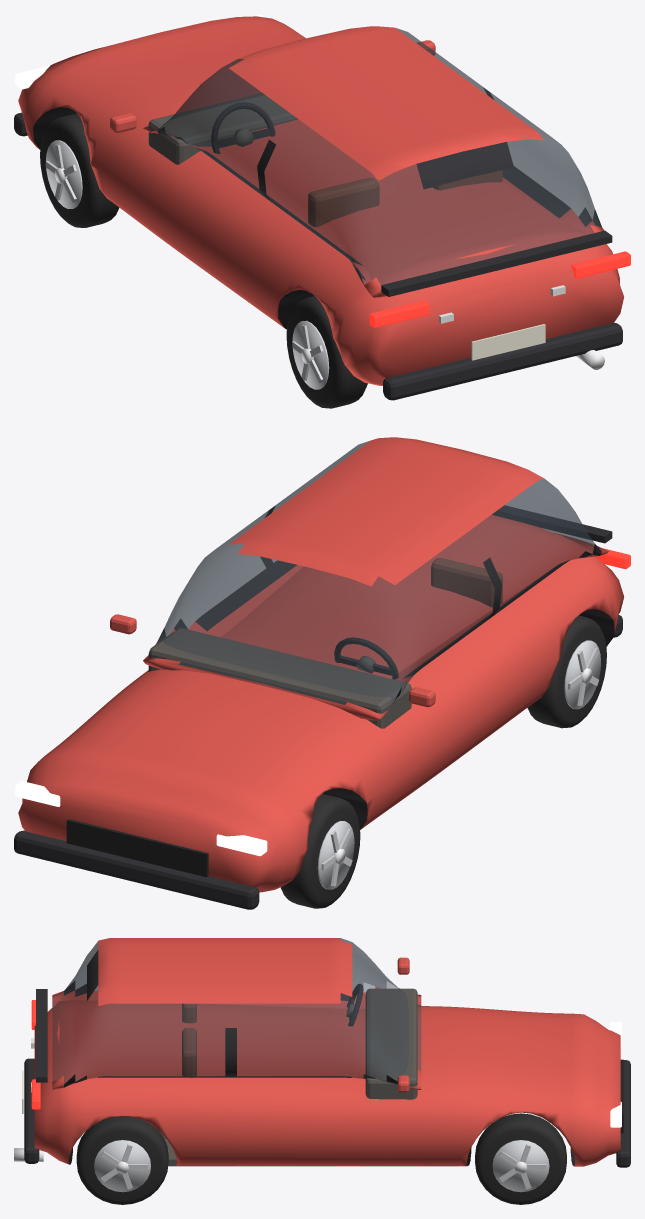
The model's file is hatch.glb.
3 views of the same model, one above another, from view 1: azimuth 30°, elevation 25°; view 2: azimuth 150°, elevation 25°; view 3: azimuth 270°, elevation 25° (orthographic). The views are drawn at different scales.
Parts seen in each view (by area): view 1: Body, Glass, Interior, Wheel_FL, Wheel_RL, Lights_Tail, SteeringWheel; view 2: Body, Glass, Interior, Wheel_FL, Wheel_RL, Lights_Head, SteeringWheel; view 3: Body, Glass, Interior, Wheel_FR, Wheel_RR, Lights_Tail, SteeringWheel, Lights_Head.
Boxes of the visible parts, x1,y1,x2,y2 form: Body: (14, 16, 623, 400); Glass: (151, 28, 601, 285); Interior: (148, 93, 502, 227); Wheel_FL: (40, 113, 119, 227); Wheel_RL: (286, 296, 367, 408); Lights_Tail: (369, 251, 630, 327); SteeringWheel: (211, 102, 275, 153); Body: (14, 437, 623, 909); Glass: (155, 440, 594, 710); Interior: (148, 558, 502, 728); Wheel_FL: (280, 793, 360, 908); Wheel_RL: (527, 615, 606, 728); Lights_Head: (15, 781, 267, 856); SteeringWheel: (334, 637, 398, 679); Body: (14, 938, 630, 1167); Glass: (52, 938, 421, 1083); Interior: (160, 988, 458, 1166); Wheel_FR: (475, 1113, 566, 1204); Wheel_RR: (76, 1116, 168, 1204); Lights_Tail: (31, 1000, 40, 1109); SteeringWheel: (346, 984, 363, 1026); Lights_Head: (610, 1022, 621, 1127).
Bounding box in the file's own units: 2.02 × 1.42 × 4.16.
